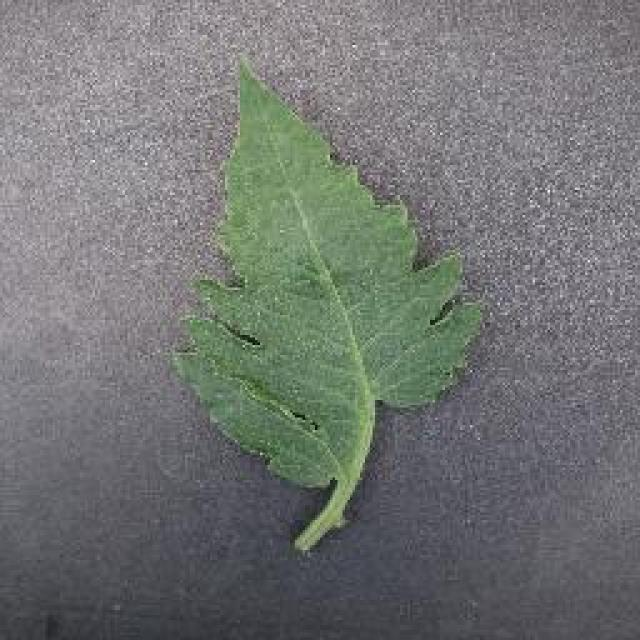Tomato healthy leaf: (187, 51, 475, 539)
